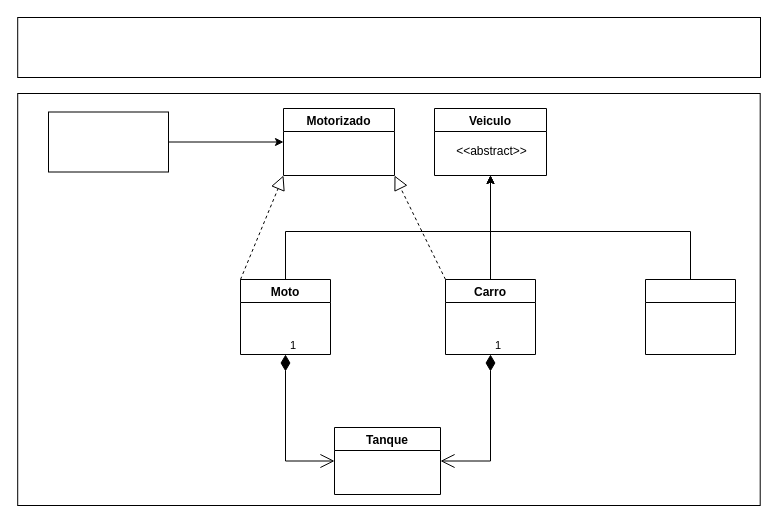
The diagram is 778 pixels wide and 523 high, and some of its shapes have lost their labels. Here are the shapes that lost their labels. From the top down, the centre of each, then its label:
At (x=388, y=47): "PROJETO ABASTECIMENTO".
At (x=108, y=141): "Frentista".
At (x=690, y=316): "Bicicleta".
